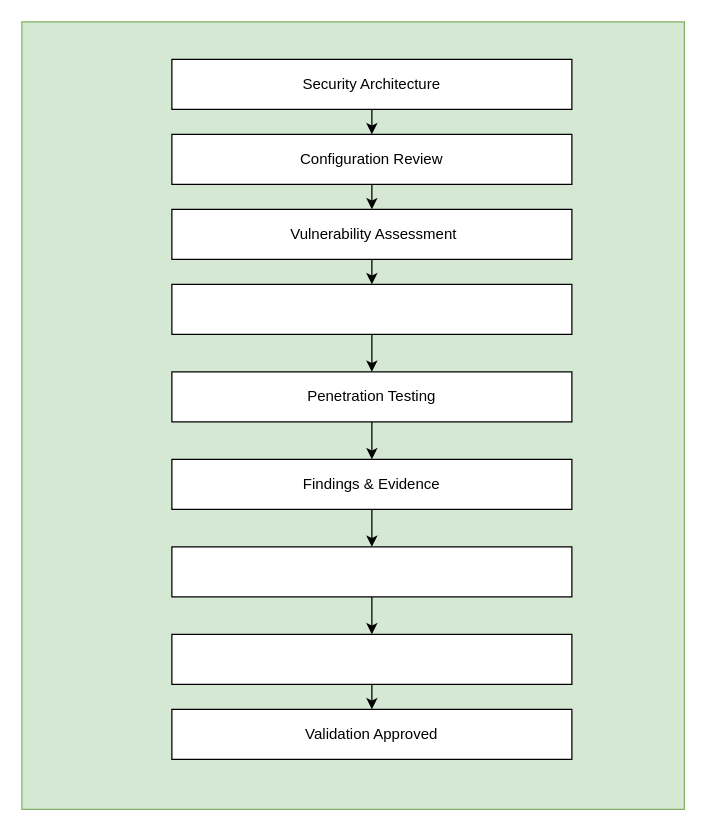
The diagram is 706 pixels wide and 831 high, and some of its shapes have lost their labels. Each missing label, with the centre of its shape:
"Re-Testing" belongs at [371,658].
"Remediation" belongs at [371,571].
"Security Control Validation" belongs at [371,308].
